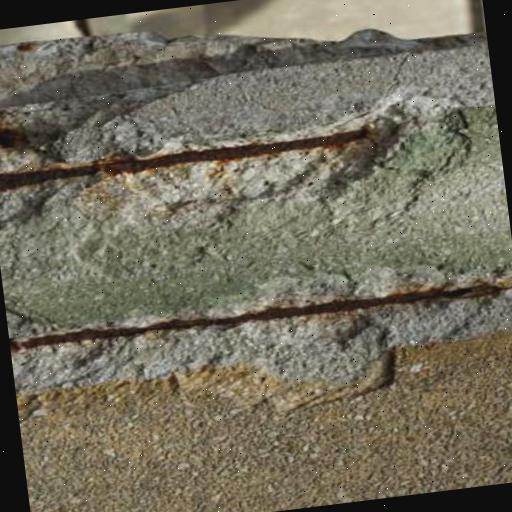spalling: (0, 60, 440, 261), (4, 242, 508, 412)
